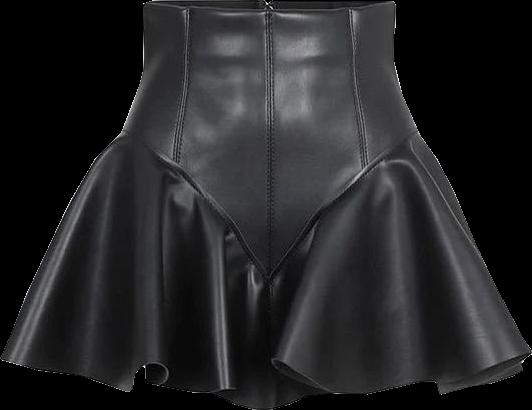Hemline: (0, 354, 526, 409)
Waistline: (121, 127, 419, 281), (145, 0, 393, 15)
